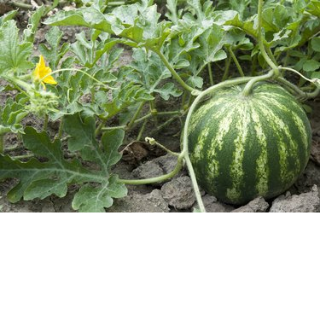dua_hau: (179, 73, 316, 202)
